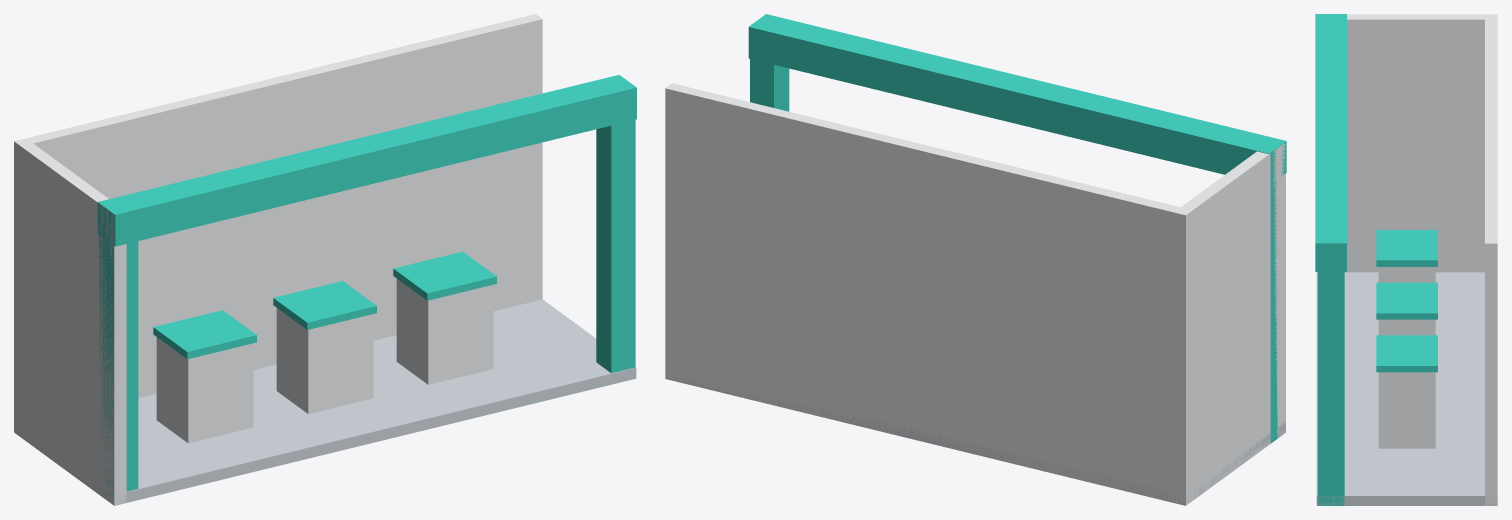
3 views of the same model, side by side, from view 1: azimuth 30°, elevation 25°; view 2: azimuth 150°, elevation 25°; view 3: azimuth 270°, elevation 25° (orthographic). The views are drawn at different scales.
Visible parts, largest first — view 1: Exhibition Booth Concept; view 2: Exhibition Booth Concept; view 3: Exhibition Booth Concept.
Part boxes in pixels (x1,y1,x2,y2): Exhibition Booth Concept: (14, 14, 636, 505); Exhibition Booth Concept: (665, 14, 1286, 505); Exhibition Booth Concept: (1315, 14, 1497, 505).
Bounding box in the file's own units: 6 × 3.2 × 2.01.
